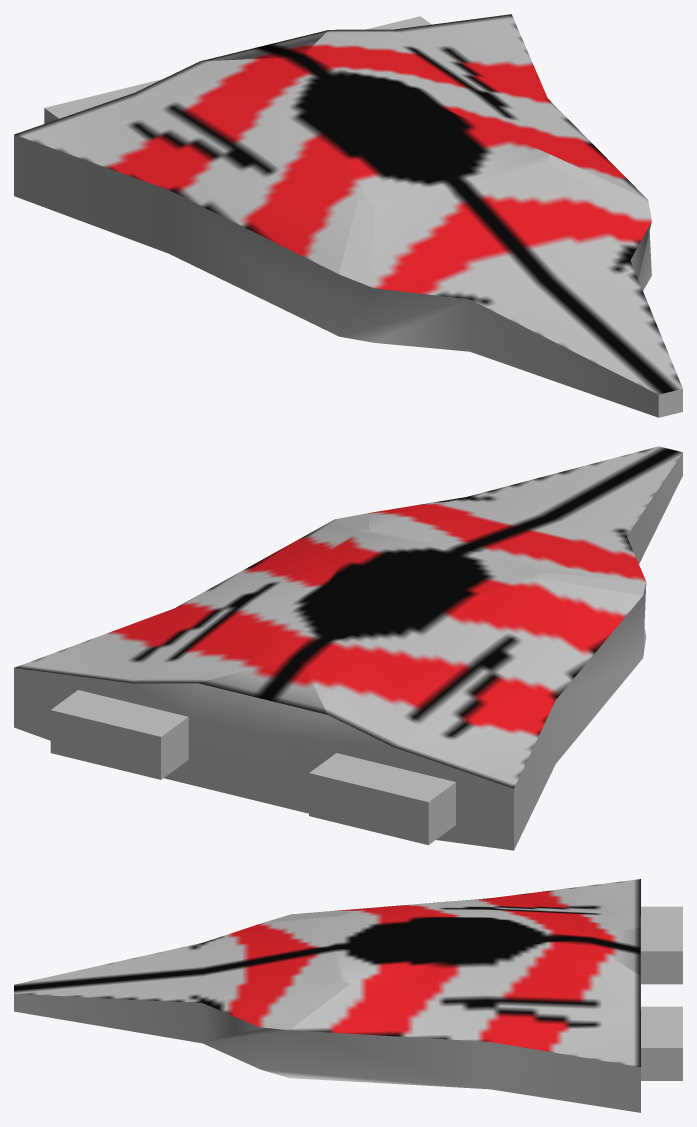
Rendered from Arrow1 (Marcus).FBX.
3 renders of one model, top to bottom at view 1: azimuth 30°, elevation 25°; view 2: azimuth 150°, elevation 25°; view 3: azimuth 270°, elevation 25°, orthographic. The views are drawn at different scales.
Parts seen in each view (by area): view 1: Arrow; view 2: Arrow; view 3: Arrow.
Boxes of the visible parts, bbox=[...] form: Arrow: bbox=[14, 14, 682, 417]; Arrow: bbox=[14, 446, 682, 850]; Arrow: bbox=[14, 879, 682, 1112].
Size of the model in its own units: 56.64 by 13.28 by 85.52.
1 material, 1 textured.
